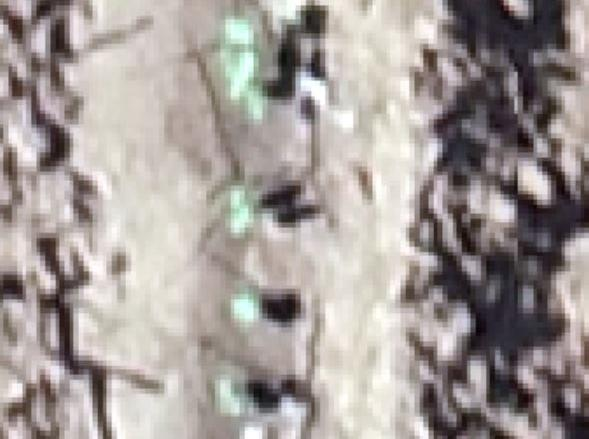cotton: (236, 77, 263, 115), (226, 52, 260, 82), (228, 20, 255, 50), (233, 293, 260, 317), (227, 384, 246, 410), (233, 193, 260, 208), (237, 204, 251, 226)
